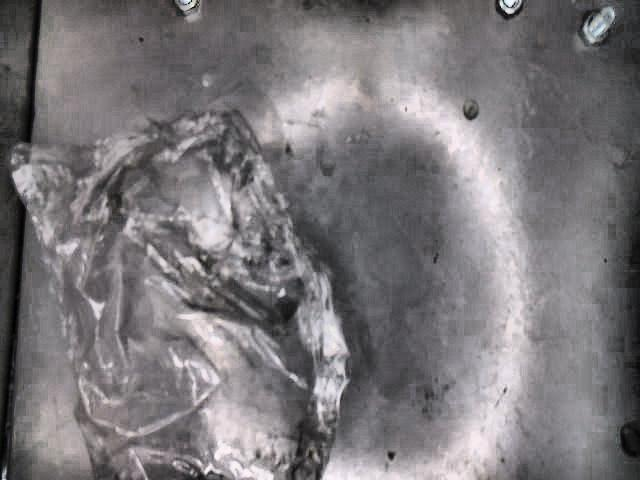Plastic: (2, 110, 362, 480)
